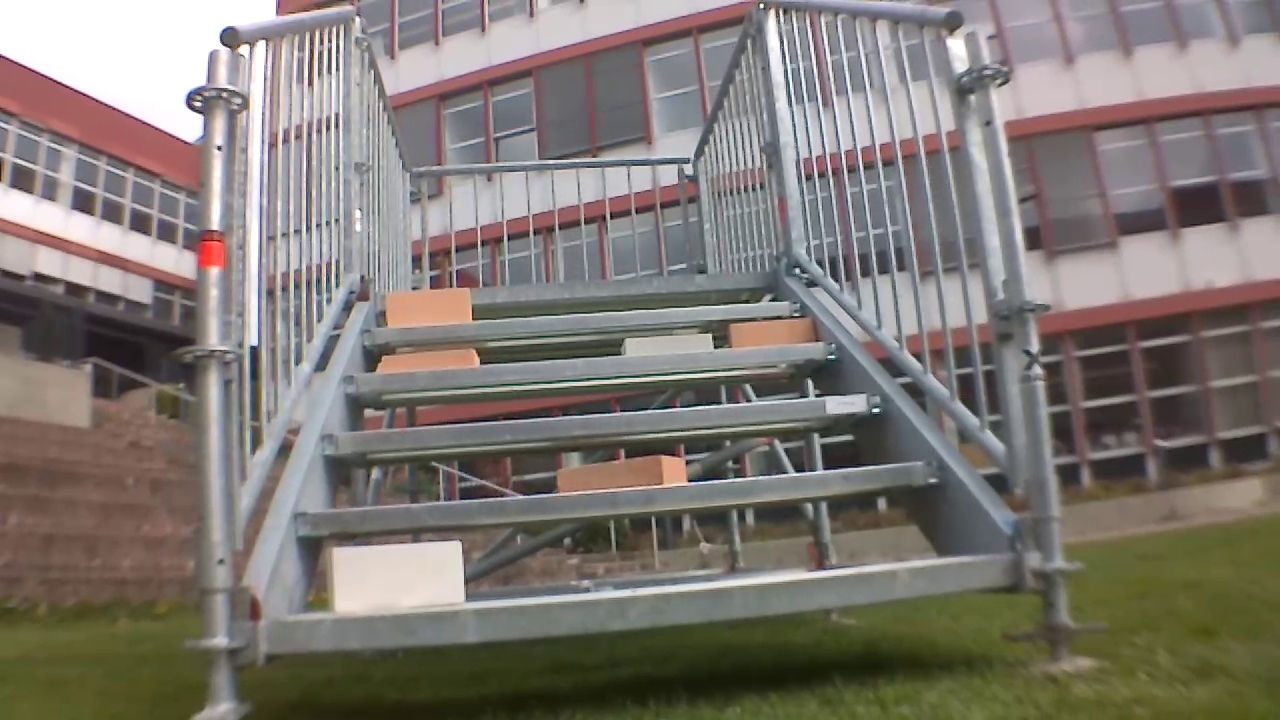brick: (360, 541, 469, 602), (557, 453, 691, 494), (384, 287, 467, 325), (731, 319, 819, 346), (379, 351, 480, 374), (629, 334, 713, 358)
edge: (262, 560, 1026, 652), (288, 464, 944, 539), (319, 389, 886, 461), (342, 338, 841, 397), (354, 300, 804, 344), (372, 273, 787, 300)
stairs: (203, 7, 1097, 671)
steps: (257, 272, 1018, 659)
